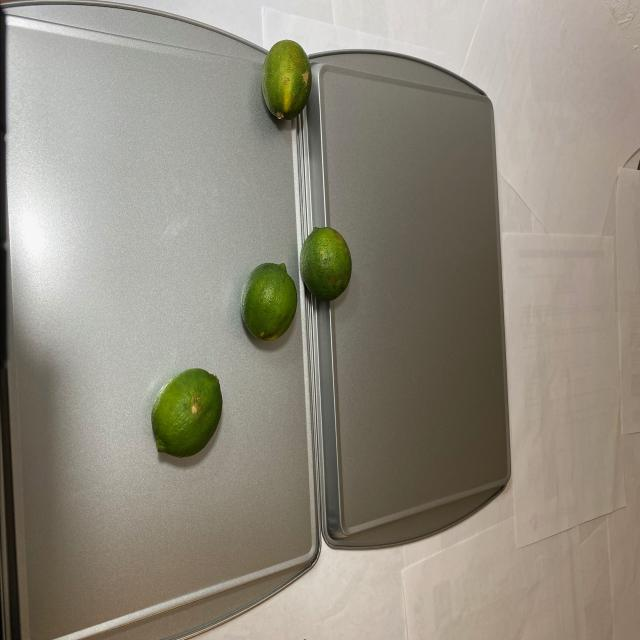lemon: (239, 221, 353, 341), (139, 369, 224, 463), (260, 36, 313, 118)
